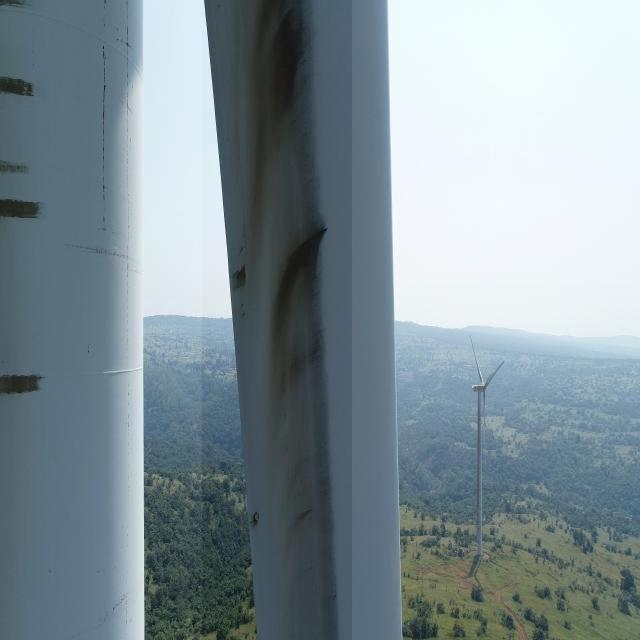Dirt: (202, 0, 352, 640)
